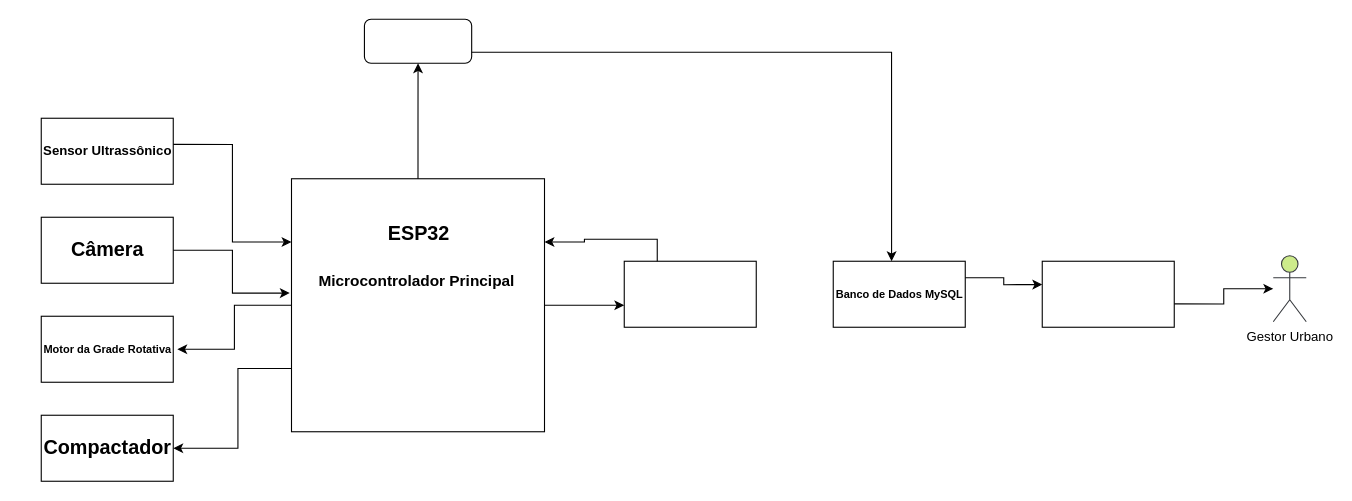
The diagram is 1352 pixels wide and 501 high, and some of its shapes have lost their labels. The shapes that lost their labels are listed below. From the top down, each one's box as (x1, y1, x2, y2) in pixels, then its label:
(363, 18, 472, 63): Wi-Fi / IoT
(623, 260, 756, 327): Lógica de IA Análise dos Dados
(1041, 260, 1174, 327): Dashboard de Monitoramento
